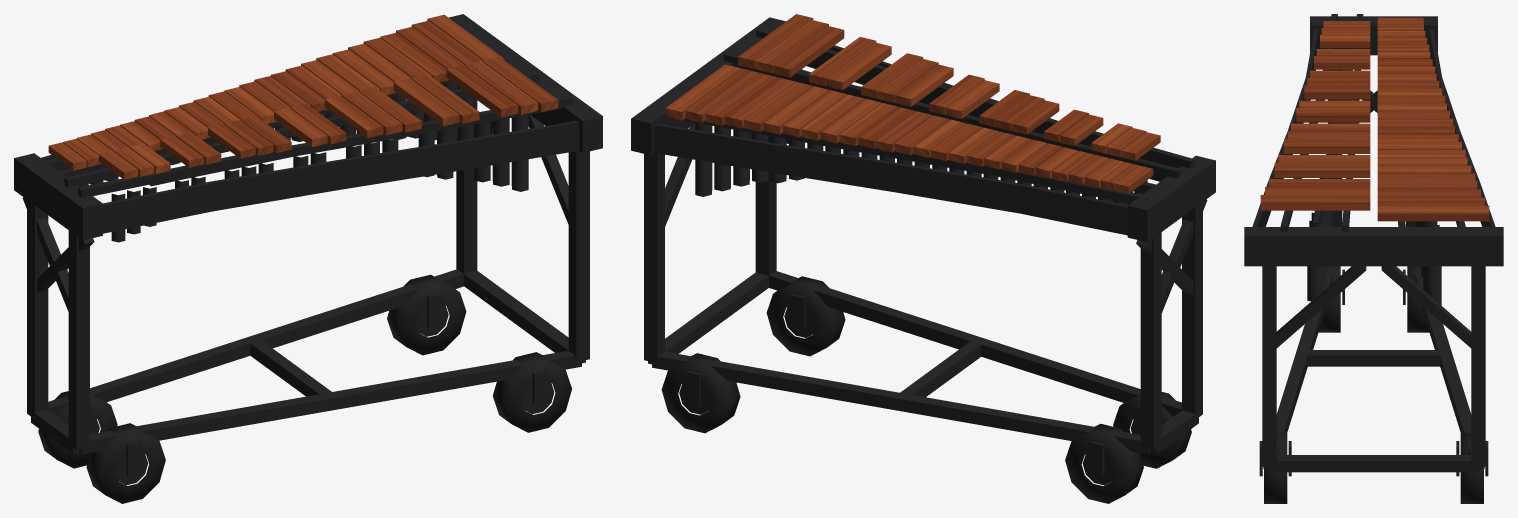
The model's file is xylophone-3.5-synthetic-black-low.glb.
3 views of the same model, side by side, from view 1: azimuth 30°, elevation 25°; view 2: azimuth 150°, elevation 25°; view 3: azimuth 270°, elevation 25° (orthographic). The views are drawn at different scales.
Parts seen in each view (by area): view 1: frame, bars-synthetic, artwork, rubber, resonators-black; view 2: frame, bars-synthetic, rubber, resonators-black; view 3: frame, bars-synthetic, rubber, resonators-black.
Boxes of the visible parts, x1=… form: frame: x1=14, y1=14, x2=602, y2=485; bars-synthetic: x1=48, y1=14, x2=558, y2=179; artwork: x1=103, y1=122, x2=579, y2=233; rubber: x1=38, y1=274, x2=571, y2=503; resonators-black: x1=79, y1=82, x2=528, y2=242; frame: x1=631, y1=17, x2=1215, y2=485; bars-synthetic: x1=665, y1=14, x2=1160, y2=193; rubber: x1=661, y1=276, x2=1191, y2=503; resonators-black: x1=695, y1=74, x2=1147, y2=205; frame: x1=1244, y1=14, x2=1503, y2=476; bars-synthetic: x1=1260, y1=17, x2=1489, y2=221; rubber: x1=1264, y1=266, x2=1483, y2=503; resonators-black: x1=1307, y1=69, x2=1441, y2=309.
Size of the model in its own units: 1.45 by 0.9351 by 0.7214.
Materials: 5 (1 with a texture image).
